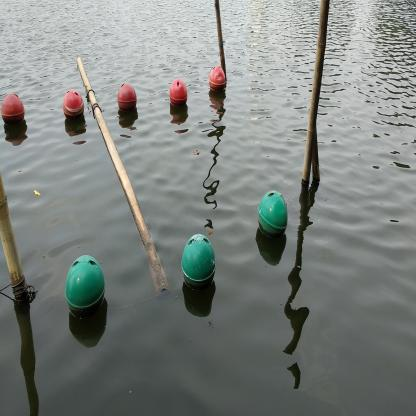green_buoy: (64, 253, 107, 321), (180, 229, 217, 289), (257, 190, 287, 242)
red_buoy: (1, 87, 26, 134), (60, 86, 86, 126), (167, 73, 191, 112), (116, 79, 138, 121), (207, 66, 227, 96)
